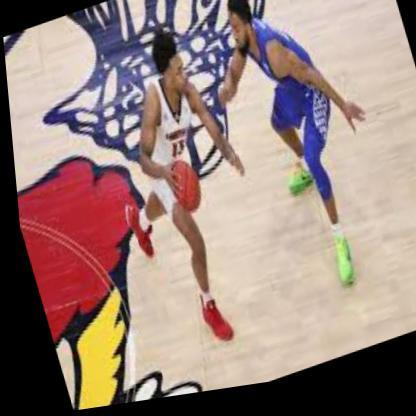basketball: (160, 160, 202, 223)
